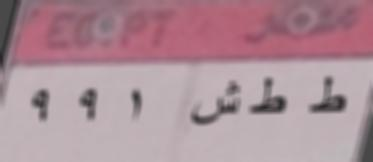1: (122, 87, 154, 122)
9: (75, 85, 105, 123), (26, 86, 55, 124)
Taa: (302, 70, 354, 128), (246, 71, 292, 120)
sheen: (192, 74, 244, 128)
